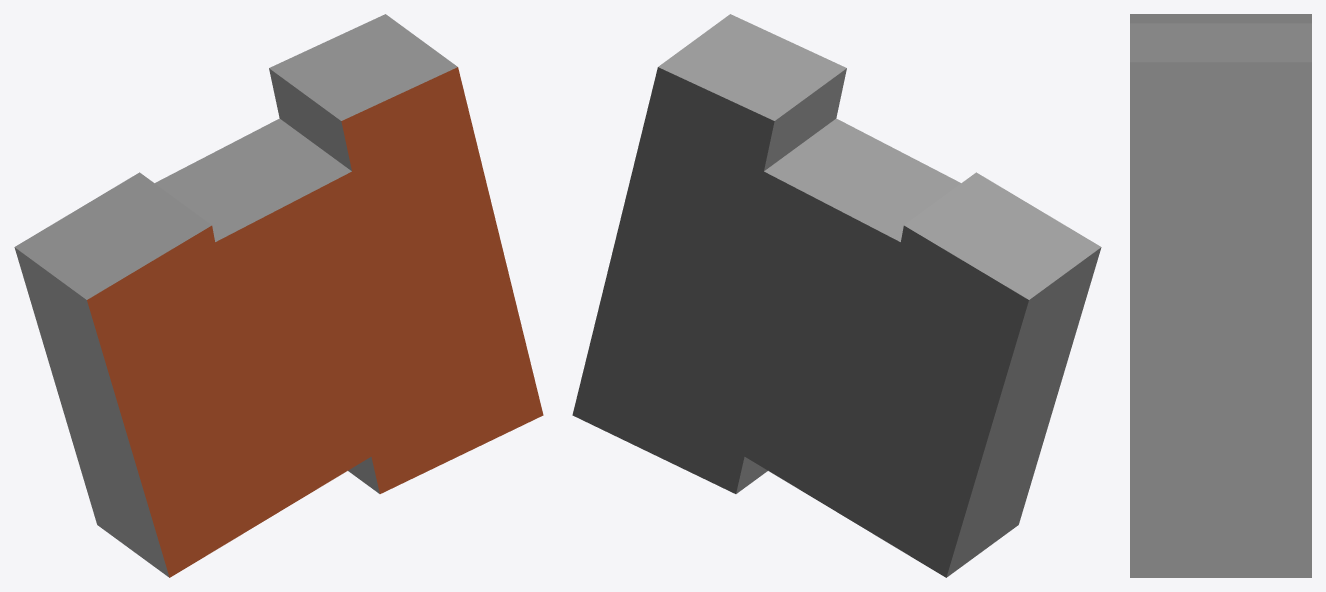
File: construction_4080_assumed_A_Casa_h6m.obj
3 renders of one model, left to right at view 1: azimuth 30°, elevation 25°; view 2: azimuth 150°, elevation 25°; view 3: azimuth 270°, elevation 25°, orthographic. The views are drawn at different scales.
Parts seen in each view (by area): view 1: construction_4080_assumed_A_Casa; view 2: construction_4080_assumed_A_Casa; view 3: construction_4080_assumed_A_Casa.
Part boxes in pixels (x1=…): construction_4080_assumed_A_Casa: x1=14, y1=14, x2=543, y2=577; construction_4080_assumed_A_Casa: x1=572, y1=14, x2=1101, y2=577; construction_4080_assumed_A_Casa: x1=1130, y1=14, x2=1311, y2=577.
Size of the model in its own units: 21.84 by 20.13 by 6.
